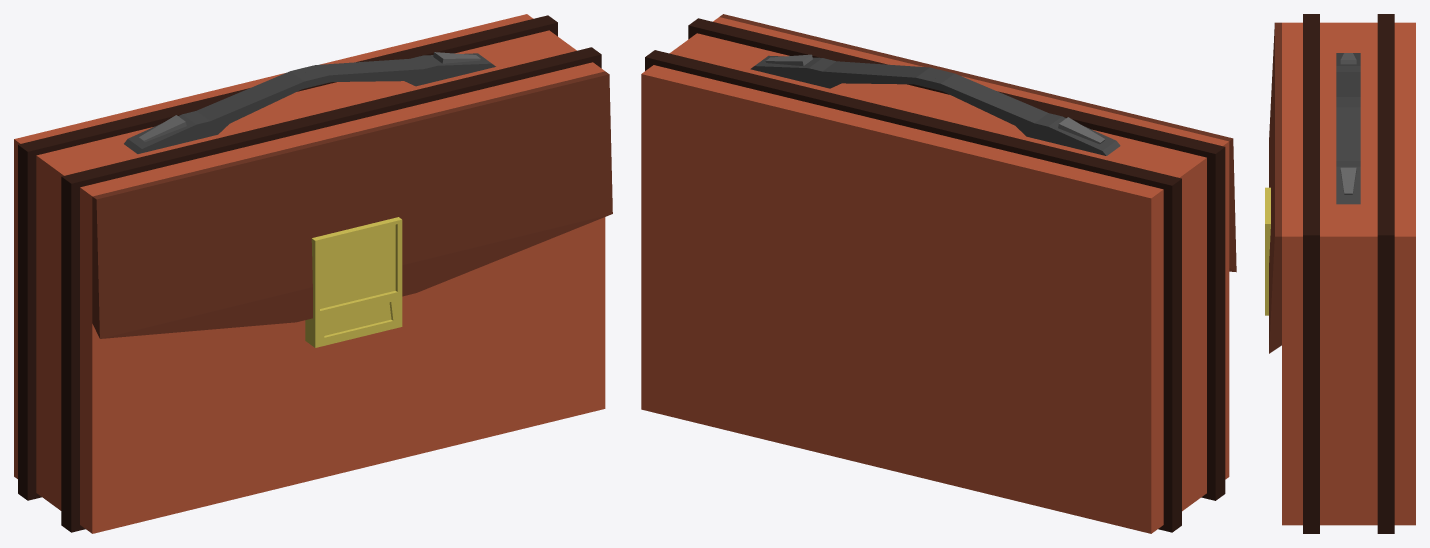
Rendered from Case.glb.
3 renders of one model, left to right at view 1: azimuth 30°, elevation 25°; view 2: azimuth 150°, elevation 25°; view 3: azimuth 270°, elevation 25°, orthographic. The views are drawn at different scales.
Parts seen in each view (by area): view 1: Cube.012, Cube.014, Cube.016, Cube.017, Cube.015, Cube.013; view 2: Cube.012, Cube.017, Cube.016, Cube.013, Cube.014; view 3: Cube.012, Cube.017, Cube.016, Cube.014, Cube.013, Cube.015.
Boxes of the visible parts, box(x1,y1,x2,y2) form: Cube.012: box(14, 14, 605, 533); Cube.014: box(92, 71, 612, 338); Cube.016: box(61, 47, 601, 532); Cube.017: box(18, 15, 557, 500); Cube.015: box(305, 217, 402, 347); Cube.013: box(124, 52, 495, 153); Cube.012: box(641, 17, 1229, 533); Cube.017: box(645, 50, 1181, 532); Cube.016: box(688, 18, 1225, 500); Cube.013: box(750, 54, 1120, 155); Cube.014: box(719, 14, 1236, 272); Cube.012: box(1282, 22, 1415, 525); Cube.017: box(1377, 14, 1394, 533); Cube.016: box(1303, 14, 1319, 533); Cube.014: box(1269, 22, 1281, 353); Cube.013: box(1336, 53, 1360, 204); Cube.015: box(1265, 187, 1270, 315).
Bounding box in the file's own units: 7.16 × 4.85 × 2.06.
